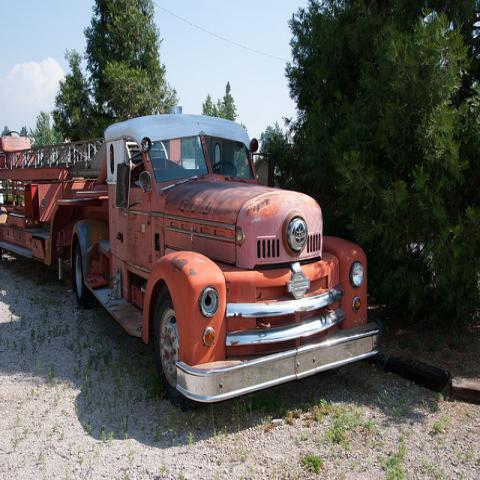truck: (0, 113, 381, 410)
